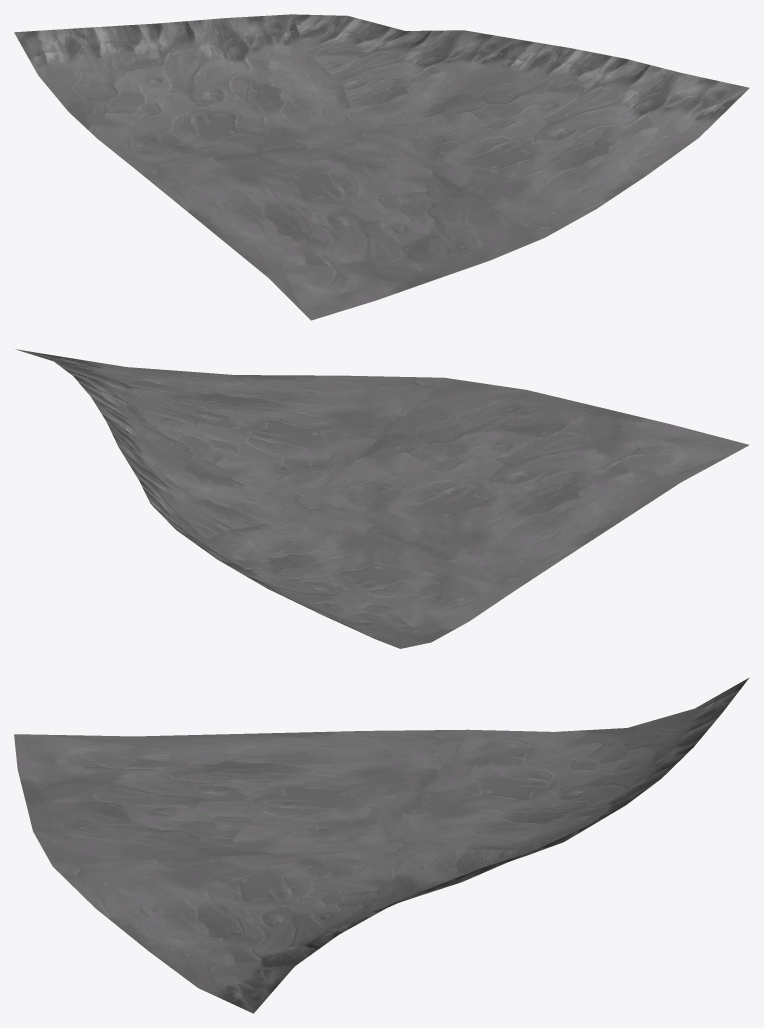
Rendered from SWORDLIGHT20_PS-AREA04_25.fbx.
3 renders of one model, top to bottom at view 1: azimuth 30°, elevation 25°; view 2: azimuth 150°, elevation 25°; view 3: azimuth 270°, elevation 25°, orthographic. The views are drawn at different scales.
Parts seen in each view (by area): view 1: SWORDLIGHT20_PS-AREA04_25; view 2: SWORDLIGHT20_PS-AREA04_25; view 3: SWORDLIGHT20_PS-AREA04_25.
Boxes of the visible parts, x1,y1,x2,y2 form: SWORDLIGHT20_PS-AREA04_25: (14, 14, 749, 320); SWORDLIGHT20_PS-AREA04_25: (16, 349, 749, 648); SWORDLIGHT20_PS-AREA04_25: (14, 677, 749, 1013).
Size of the model in its own units: 98717 by 10224 by 98840.
Materials: 2 (2 with a texture image).
